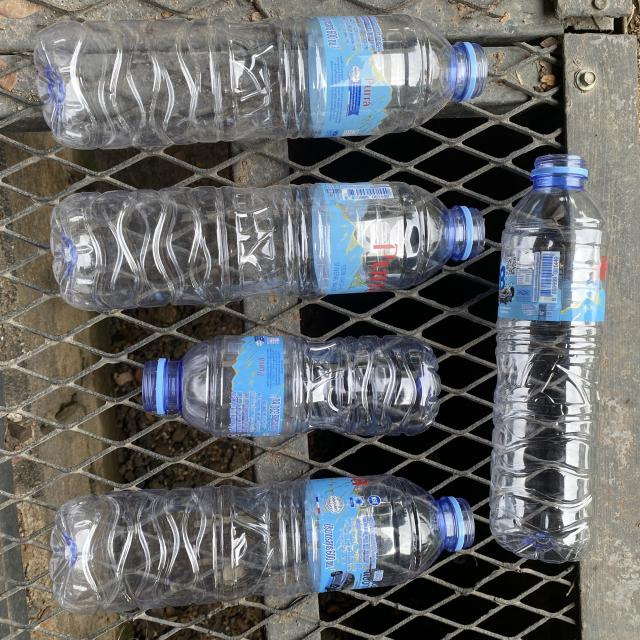plastik: (35, 15, 488, 149), (50, 475, 475, 614), (50, 182, 485, 311), (490, 155, 608, 562), (142, 336, 440, 436)
